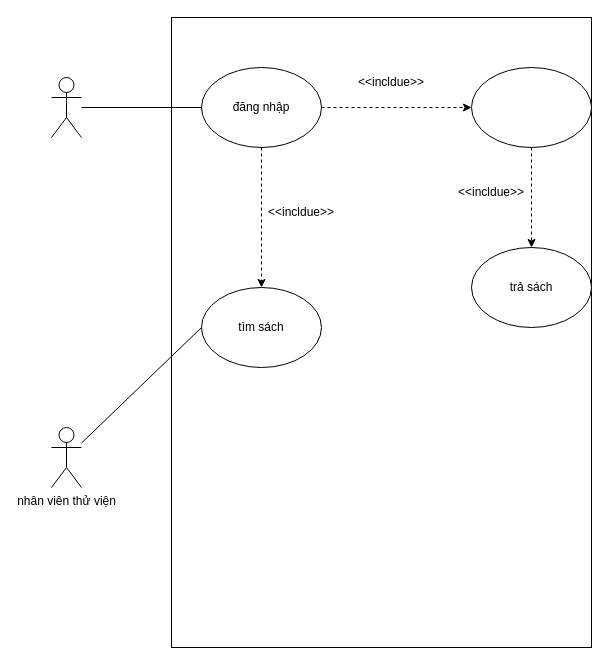
Some shapes in this 609 by 665 pixel diagram are drawn without their labels. Here are the shapes that lost their labels. From the top down, the box of each, then its label:
(50, 76, 82, 138): độc giả
(470, 66, 592, 148): mượn sách
